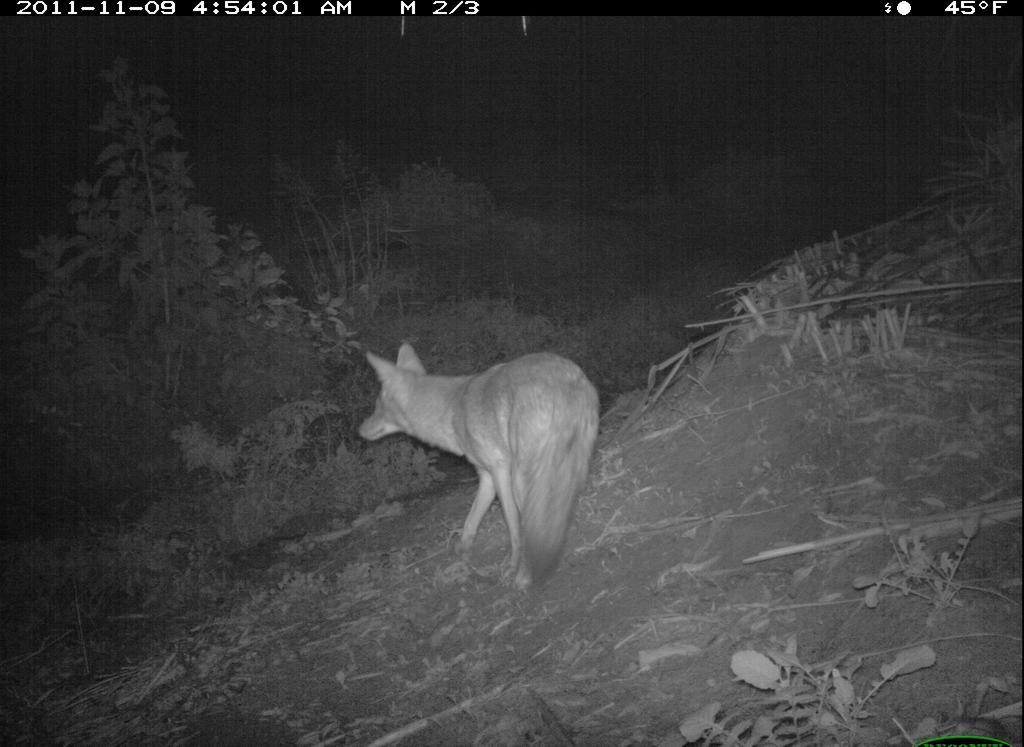coyote: (349, 331, 612, 598)
